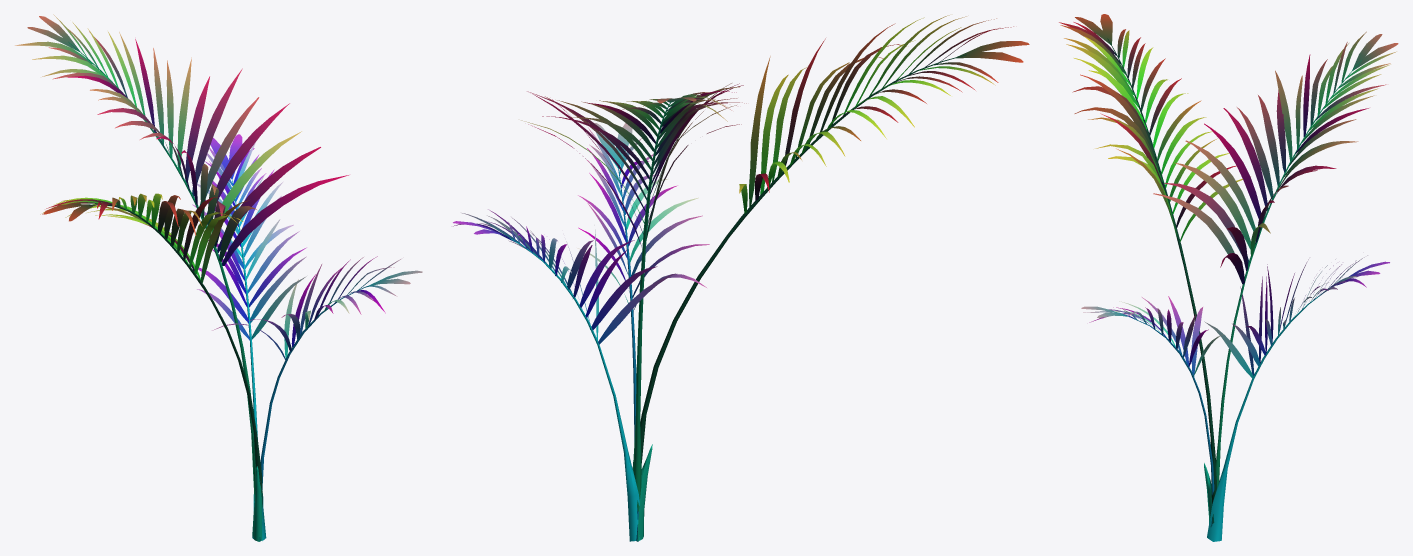
File: ukgkcilia_VarC_LOD2.fbx
3 renders of one model, left to right at view 1: azimuth 30°, elevation 25°; view 2: azimuth 150°, elevation 25°; view 3: azimuth 270°, elevation 25°, orthographic. The views are drawn at different scales.
Parts seen in each view (by area): view 1: _cgx3_VarC_LOD3; view 2: _cgx3_VarC_LOD3; view 3: _cgx3_VarC_LOD3.
Boxes of the visible parts, x1,y1,x2,y2 form: _cgx3_VarC_LOD3: [15, 14, 422, 541]; _cgx3_VarC_LOD3: [453, 15, 1029, 541]; _cgx3_VarC_LOD3: [1059, 14, 1398, 541].
Size of the model in its own units: 131 by 160 by 112.
